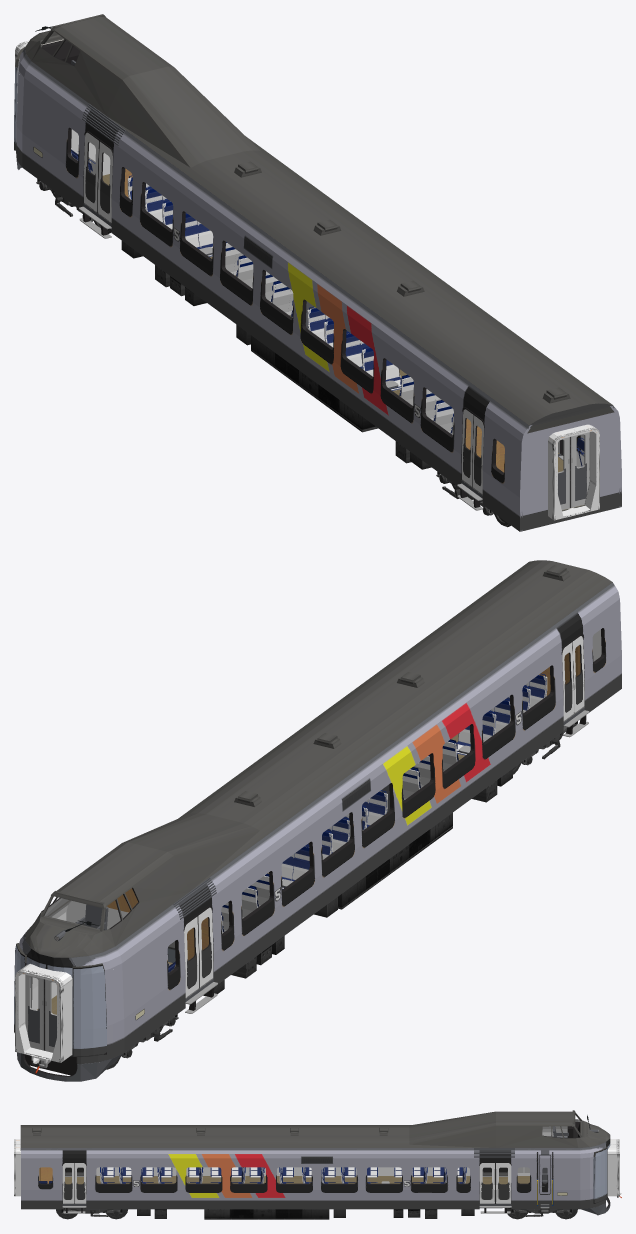
Rendered from mrwicmfront_gangway_back.obj.
3 views of the same model, one above another, from view 1: azimuth 30°, elevation 25°; view 2: azimuth 150°, elevation 25°; view 3: azimuth 270°, elevation 25° (orthographic). The views are drawn at different scales.
Visible parts, largest first — view 1: side, jibung, chair_second, backout, habu, mak, jibungparts, backdoor, door_RB, door_RF, sadari, DT71 (+1 smaller); view 2: side, jibung, chair_second, frontparts, habu, mak, side_front, jibungparts, backdoor, door_RF, door_RB, sadari (+4 smaller); view 3: side, jibung, chair_second, habu, badak, mak, DT71, frontparts, side_front, door_LB, door_LF, inside (+5 smaller).
Boxes of the visible parts, x1,y1,x2,y2 form: side: [22, 61, 621, 531]; jibung: [25, 16, 612, 425]; chair_second: [127, 175, 453, 434]; backout: [523, 403, 618, 530]; habu: [111, 228, 431, 469]; mak: [15, 40, 599, 520]; jibungparts: [82, 103, 570, 403]; backdoor: [558, 432, 589, 509]; door_RB: [83, 132, 473, 487]; door_RF: [97, 141, 483, 494]; sadari: [79, 131, 577, 510]; DT71: [36, 179, 510, 527]; side: [47, 582, 621, 1052]; jibung: [25, 560, 612, 957]; chair_second: [221, 673, 547, 933]; frontparts: [14, 920, 123, 1081]; habu: [24, 769, 512, 1075]; mak: [15, 963, 72, 1062]; side_front: [19, 927, 124, 1064]; jibungparts: [173, 565, 570, 919]; backdoor: [25, 974, 56, 1052]; door_RF: [198, 636, 584, 987]; door_RB: [184, 642, 573, 998]; sadari: [183, 633, 589, 1013]; side: [21, 1126, 580, 1209]; jibung: [20, 1111, 610, 1147]; chair_second: [100, 1167, 466, 1183]; habu: [137, 1207, 502, 1219]; badak: [65, 1176, 529, 1184]; mak: [14, 1139, 619, 1196]; DT71: [56, 1207, 577, 1219]; frontparts: [580, 1115, 621, 1215]; side_front: [580, 1142, 605, 1208]; door_LB: [74, 1162, 511, 1203]; door_LF: [62, 1162, 495, 1203]; inside: [96, 1132, 567, 1175].
Size of the model in its own units: 3.17 by 4.52 by 26.18.
